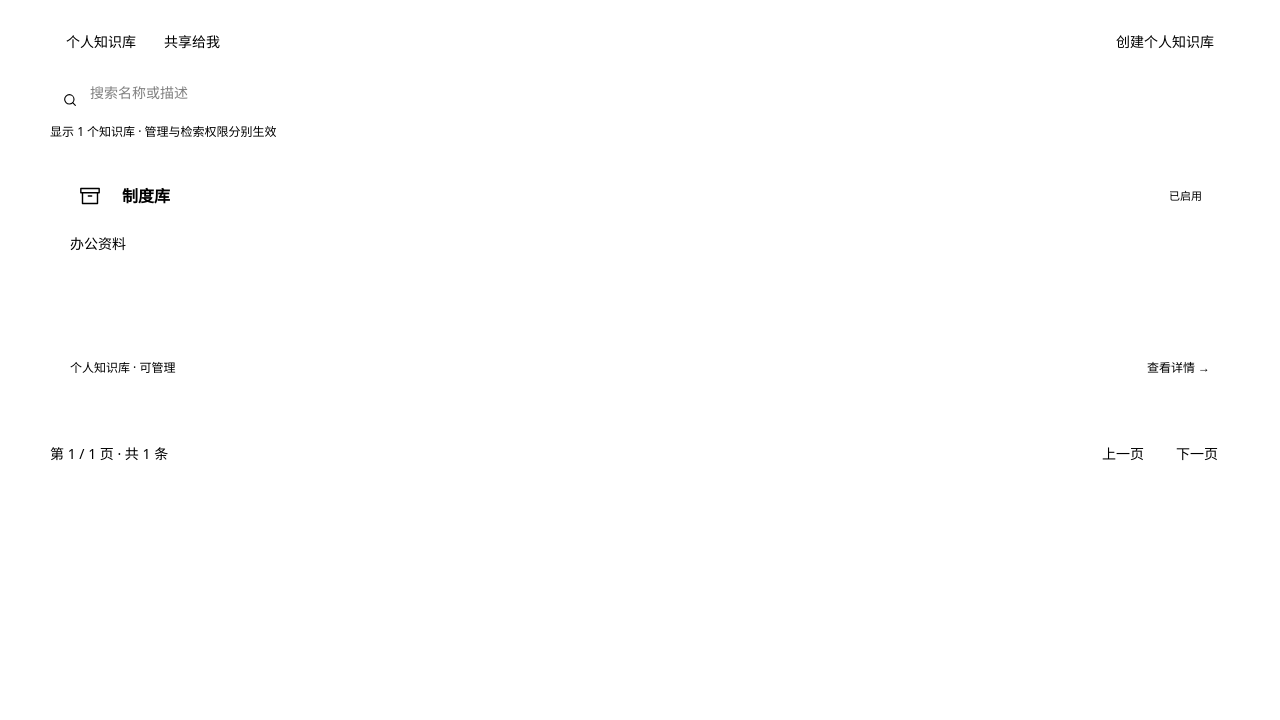
Scenario: keeps uploaded documents idle until explicit start and prevents duplicate submissions
This screenshot has width=1280, height=720.
Click the button "制度库 已启用 办公资料 个人知识库 · 可管理 查看详情 →" at (640, 276), box [50,156,1230,396]
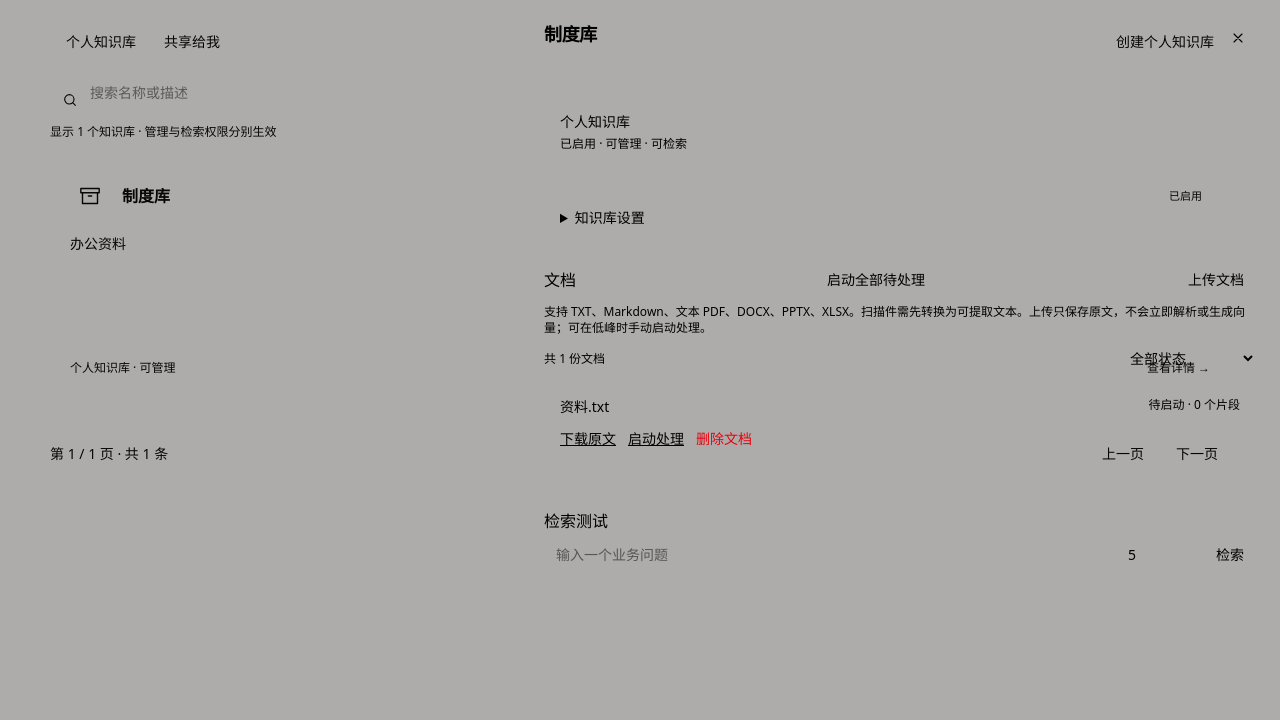
Result: the text "待启动 · 0 个片段" is shown at [1148,397,1240,417]
Click the button "启动处理" at (656, 439), box [628,429,684,449]
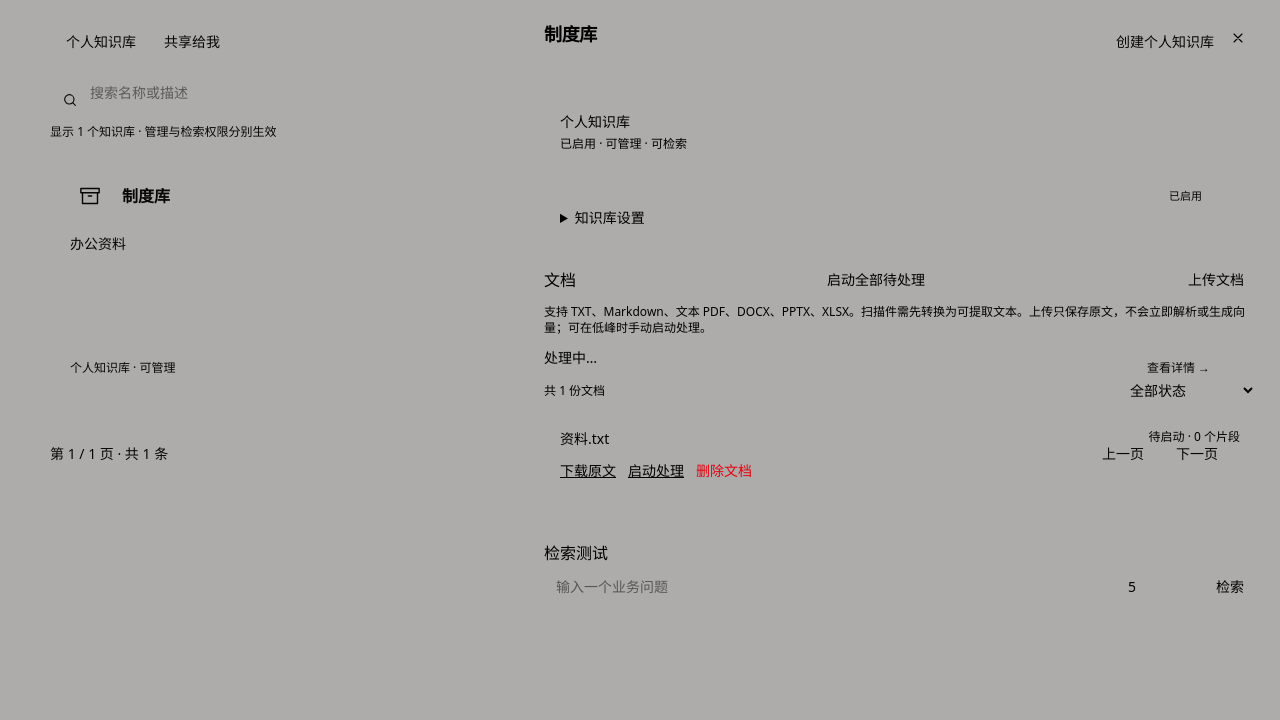
Click the button "启动处理" at (656, 471), box [628,461,684,481]
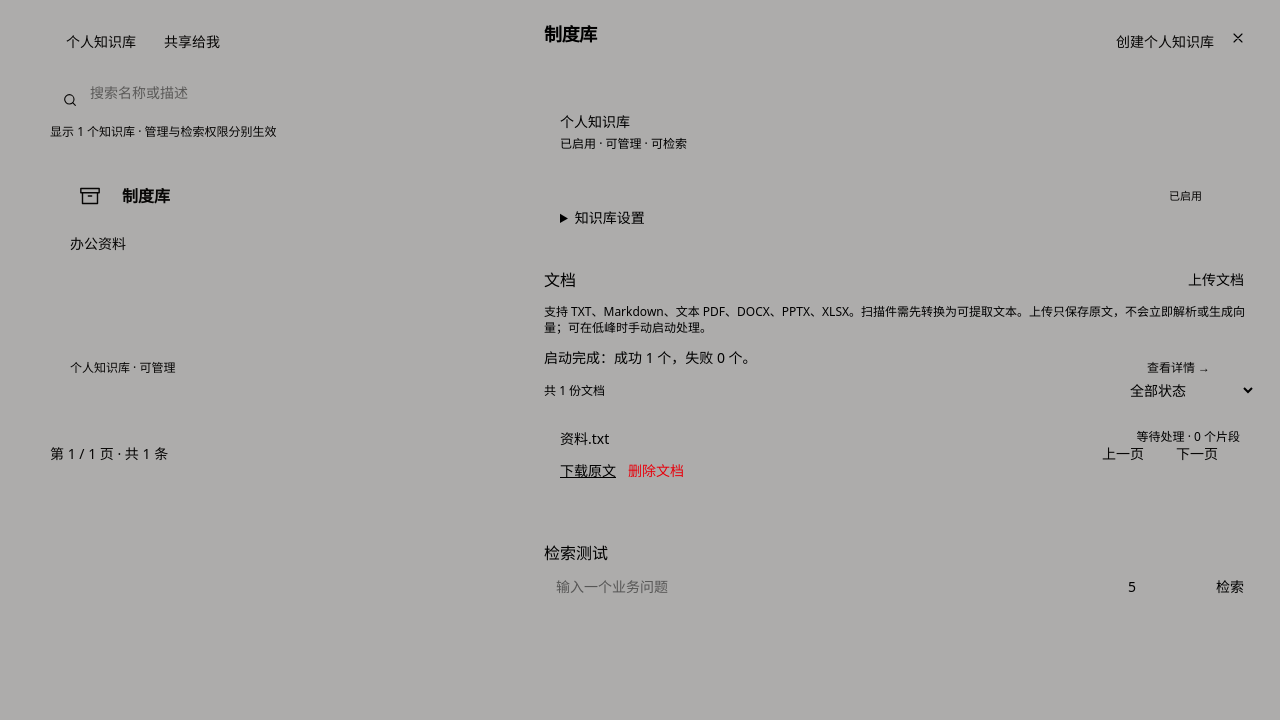
Expected: the button "启动处理" is not shown
Result: the text "启动完成：成功 1 个，失败 0 个。" is shown at [544,348,757,367]
